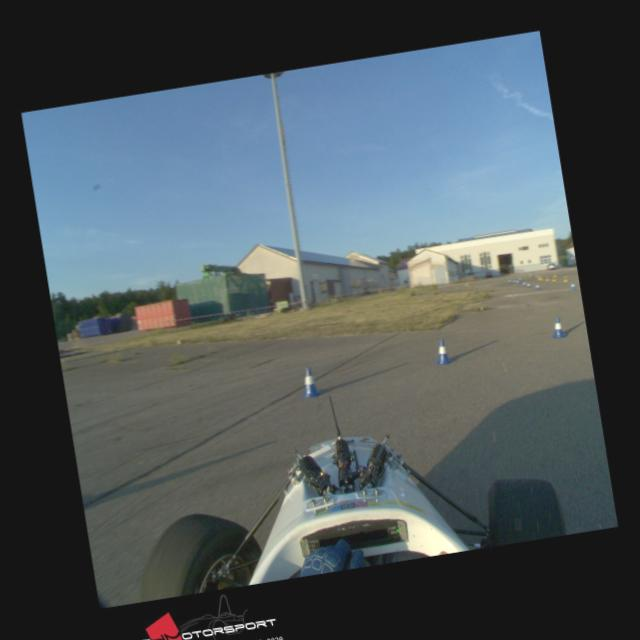blue_cone: (298, 366, 320, 400), (433, 338, 452, 366), (550, 316, 566, 338)
